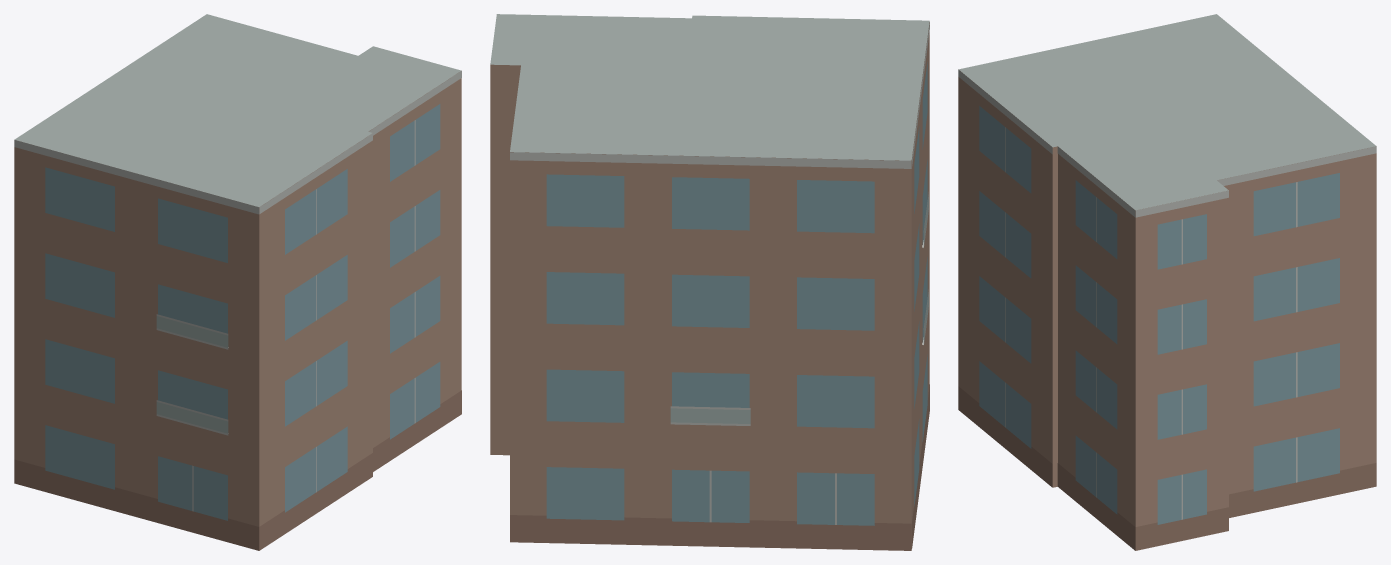
The model's file is survey-upis-32759374.glb.
3 renders of one model, left to right at view 1: azimuth 30°, elevation 25°; view 2: azimuth 150°, elevation 25°; view 3: azimuth 270°, elevation 25°, orthographic. The views are drawn at different scales.
Visible parts, largest first — view 1: survey-upis-32759374.tmp; view 2: survey-upis-32759374.tmp; view 3: survey-upis-32759374.tmp.
Part boxes in pixels (x1,y1,x2,y2): survey-upis-32759374.tmp: (14, 14, 461, 550); survey-upis-32759374.tmp: (490, 14, 929, 550); survey-upis-32759374.tmp: (958, 14, 1376, 550).
Bounding box in the file's own units: 14.24 × 11.5 × 12.81.
